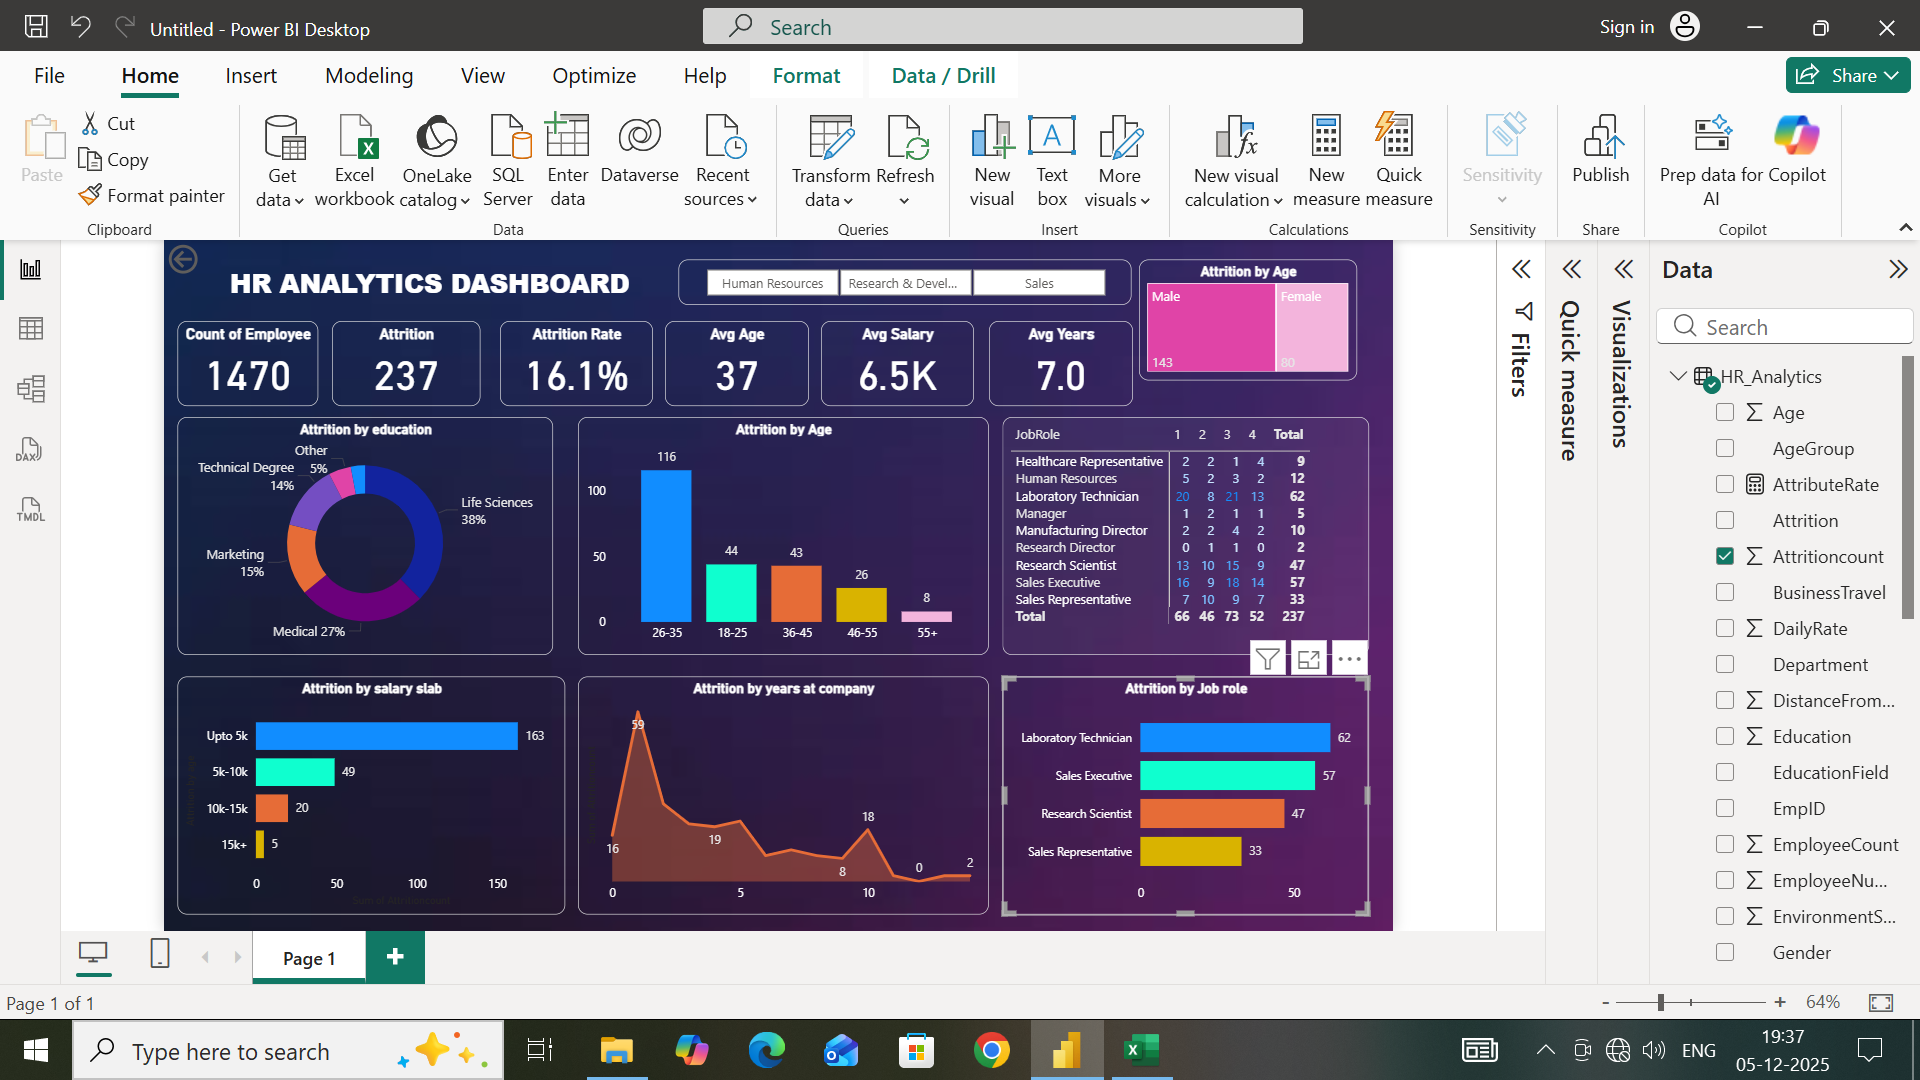

Layout of this report page (visuals, bound fields, positions):
{"tool":"powerbi","page":{"name":"Page 1","canvas":[1280,720],"ordinal":0},"visuals":[{"type":"card","title":"Count of Employee","fields":{"Values":["CountNonNull(HR_Analytics.EmpID)"]},"box":[14.2,83.7,146.8,88.4],"z":0},{"type":"card","title":"Attrition","fields":{"Values":["Sum(HR_Analytics.Attritioncolumn)"]},"box":[175.3,83.7,154.7,88.4],"z":1000},{"type":"card","title":"Attrition Rate","fields":{"Values":["HR_Analytics.AttributeRate"]},"box":[350.5,83.7,159.5,88.4],"z":2000},{"type":"card","title":"Avg Age","fields":{"Values":["Avg(HR_Analytics.Age)"]},"box":[522.6,83.7,150,88.4],"z":3000},{"type":"actionButton","box":[0,0,100,40],"z":4000},{"type":"card","title":"Avg Salary","fields":{"Values":["Avg(HR_Analytics.MonthlyIncome)"]},"box":[685.3,83.7,159.5,88.4],"z":5000},{"type":"card","title":"Avg Years","fields":{"Values":["Avg(HR_Analytics.YearsAtCompany)"]},"box":[859,83.7,150,88.4],"z":6000},{"type":"donutChart","title":"Attrition by education","fields":{"Category":["HR_Analytics.EducationField"],"Y":["Sum(HR_Analytics.Attritioncount)"]},"box":[14.2,184.7,391.6,247.9],"z":7000},{"type":"columnChart","title":"Attrition by Age","fields":{"Category":["HR_Analytics.AgeGroup"],"Y":["Sum(HR_Analytics.Attritioncount)"]},"box":[431.1,184.7,427.9,247.9],"z":8000},{"type":"pivotTable","fields":{"Rows":["HR_Analytics.JobRole"],"Columns":["HR_Analytics.JobSatisfaction"],"Values":["Sum(HR_Analytics.Attritioncount)"]},"box":[873.2,184.7,382.1,247.9],"z":9000},{"type":"barChart","title":"Attrition by salary slab","fields":{"Category":["HR_Analytics.SalarySlab"],"Y":["Sum(HR_Analytics.Attritioncount)"]},"box":[14.2,454.7,404.2,247.9],"z":10000},{"type":"barChart","title":"Attrition by Job role","fields":{"Category":["HR_Analytics.JobRole"],"Y":["Sum(HR_Analytics.Attritioncount)"]},"box":[873.2,454.7,382.1,247.9],"z":11000},{"type":"areaChart","title":"Attrition by years at company","fields":{"Category":["HR_Analytics.YearsAtCompany"],"Y":["Sum(HR_Analytics.Attritioncount)"]},"box":[431.1,454.7,427.9,247.9],"z":12000},{"type":"treemap","title":"Attrition by Age","fields":{"Group":["HR_Analytics.Gender"],"Values":["Sum(HR_Analytics.Attritioncount)"]},"box":[1015.3,20.5,227.4,126.3],"z":13000},{"type":"slicer","fields":{"Values":["HR_Analytics.Department"]},"box":[536.8,20.5,472.1,47.4],"z":14000},{"type":"textbox","box":[31.6,20.5,491.1,63.2],"z":15000}]}

Visuals, with their boxes in screenshot pixels (x1, y1, x2, y2):
"Count of Employee" card: 160 134 370 261
"Attrition" card: 390 134 611 261
"Attrition Rate" card: 640 134 868 261
"Avg Age" card: 886 134 1100 261
actionButton: 140 15 283 72
"Avg Salary" card: 1118 134 1345 261
"Avg Years" card: 1366 134 1580 261
"Attrition by education" donutChart: 160 279 719 632
"Attrition by Age" columnChart: 755 279 1366 632
pivotTable - HR_Analytics.JobRole x HR_Analytics.JobSatisfaction: 1386 279 1919 632
"Attrition by salary slab" barChart: 160 664 737 1017
"Attrition by Job role" barChart: 1386 664 1919 1017
"Attrition by years at company" areaChart: 755 664 1366 1017
"Attrition by Age" treemap: 1589 44 1913 224
slicer - HR_Analytics.Department: 906 44 1580 112
textbox: 185 44 886 134
